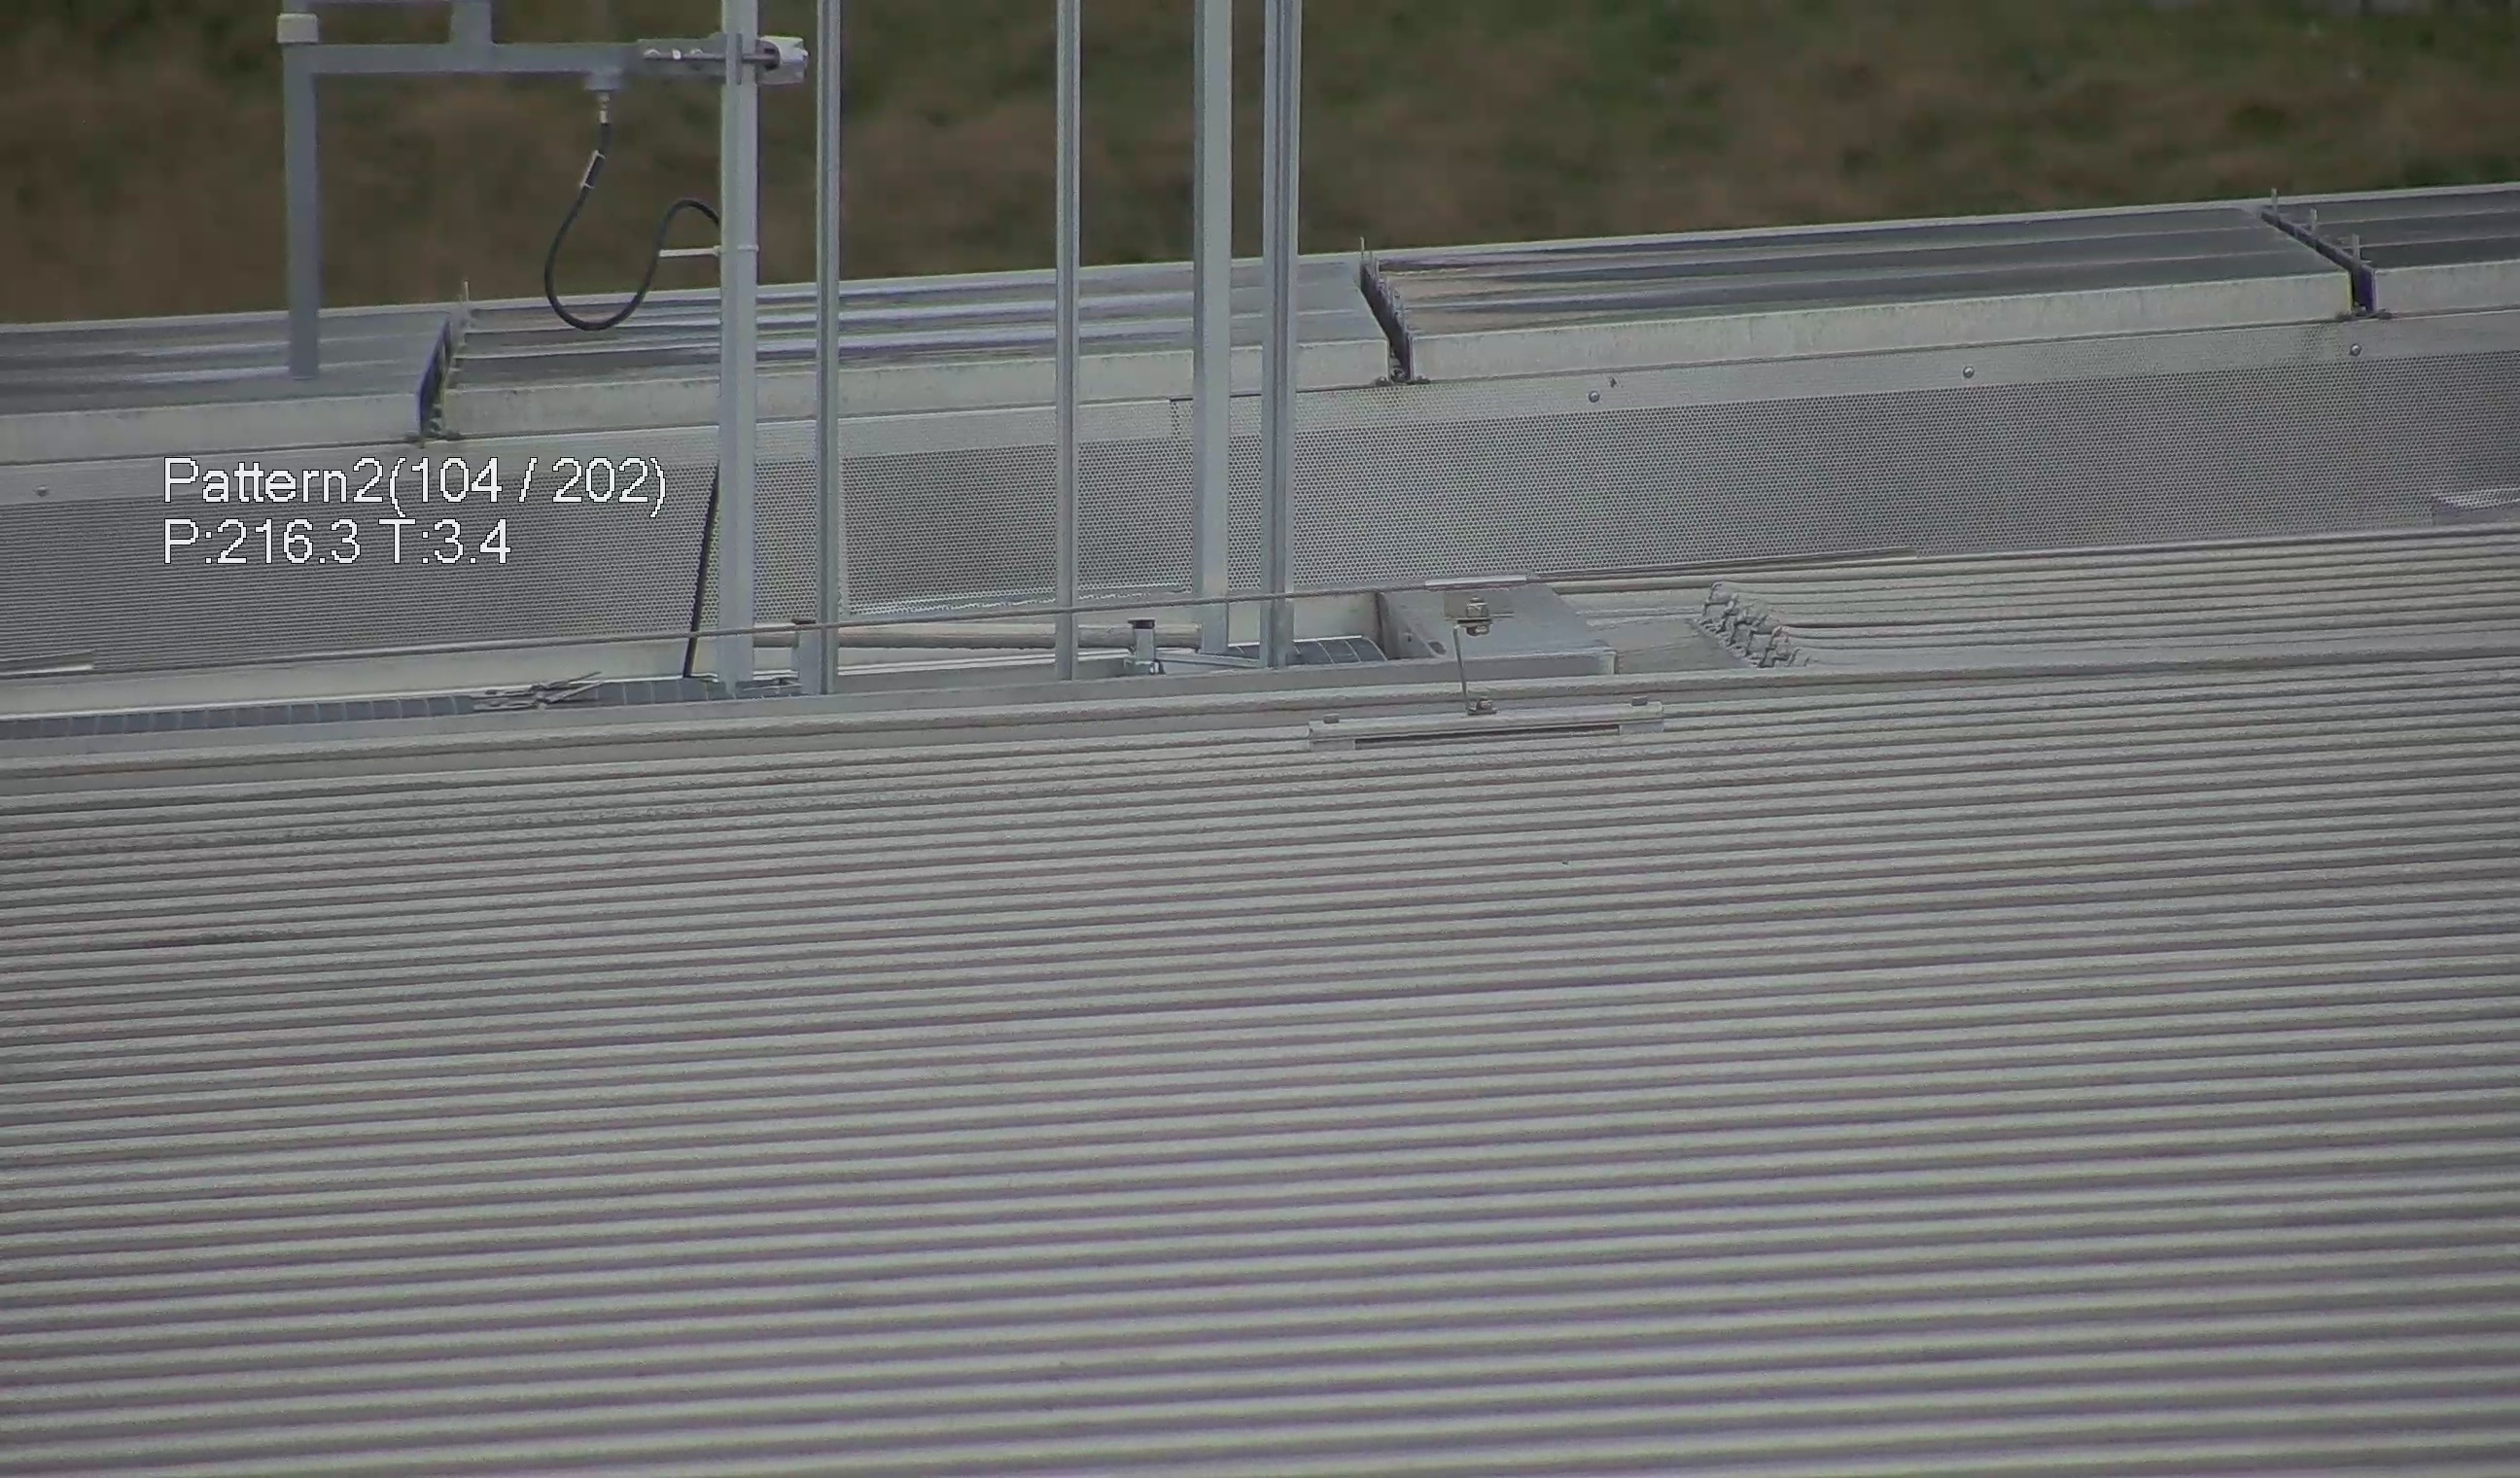Other: (1342, 229, 1433, 384)
